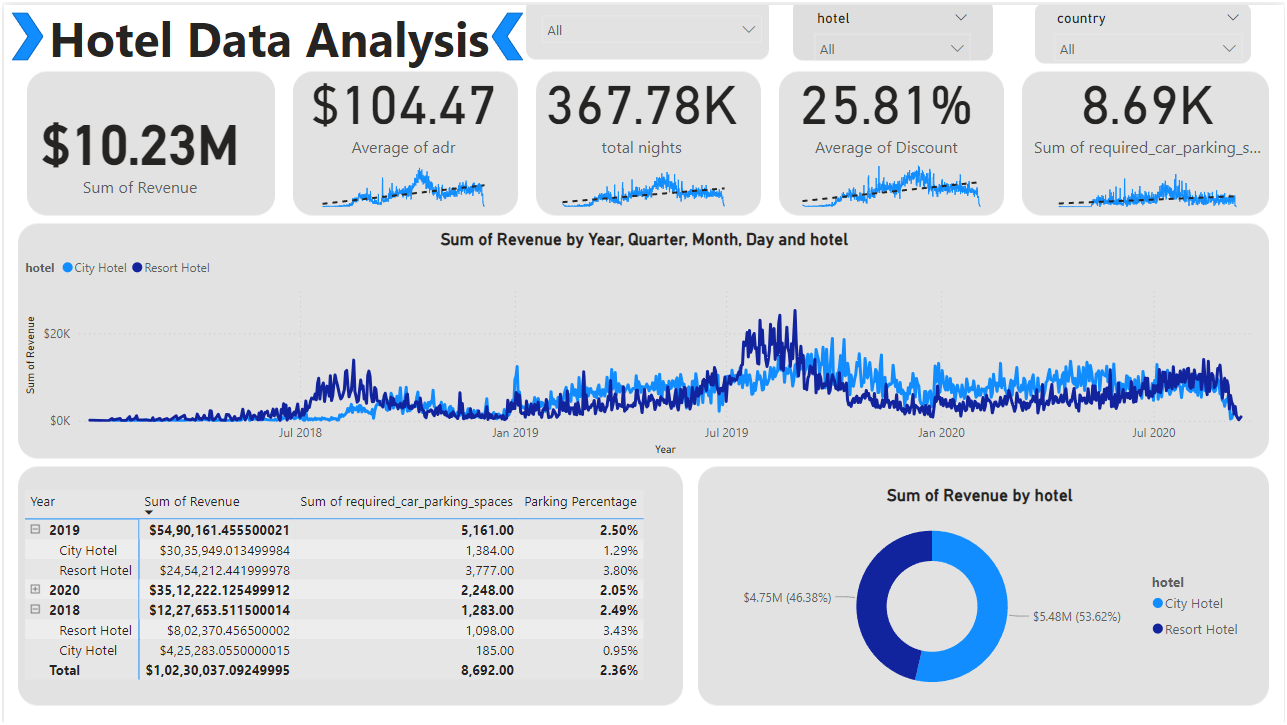

This screenshot's page, from the dashboard's own definition file:
{"tool":"powerbi","page":{"name":"Page 1","canvas":[1280,720],"ordinal":0},"visuals":[{"type":"card","fields":{"Values":["Sum(Query1.Revenue)"]},"box":[16,64,240,160],"z":0},{"type":"card","fields":{"Values":["Avg(Query1.adr)"]},"box":[288,48,224,112],"z":1000},{"type":"card","fields":{"Values":["Query1.total nights"]},"box":[533.3,48,208,112],"z":2000},{"type":"card","fields":{"Values":["Avg(Query1.Discount)"]},"box":[762.7,48,240,112],"z":3000},{"type":"lineChart","fields":{"Y":["Sum(Query1.Revenue)"],"Category":["Query1.reservation_status_date.Variation.Date Hierarchy.Year","Query1.reservation_status_date.Variation.Date Hierarchy.Quarter","Query1.reservation_status_date.Variation.Date Hierarchy.Month","Query1.reservation_status_date.Variation.Date Hierarchy.Day"],"Series":["Query1.hotel"]},"box":[16,224,1248,232],"z":4000},{"type":"slicer","fields":{"Values":["Query1.country"]},"box":[1040,0,208,64],"z":5000},{"type":"slicer","fields":{"Values":["Query1.hotel"]},"box":[800,0,176,64],"z":6000},{"type":"lineChart","fields":{"Category":["Query1.reservation_status_date.Variation.Date Hierarchy.Year","Query1.reservation_status_date.Variation.Date Hierarchy.Quarter","Query1.reservation_status_date.Variation.Date Hierarchy.Month","Query1.reservation_status_date.Variation.Date Hierarchy.Day"],"Y":["Sum(Query1.adr)"]},"box":[304,144,192,64],"z":7000},{"type":"lineChart","fields":{"Category":["Query1.reservation_status_date.Variation.Date Hierarchy.Year","Query1.reservation_status_date.Variation.Date Hierarchy.Quarter","Query1.reservation_status_date.Variation.Date Hierarchy.Month","Query1.reservation_status_date.Variation.Date Hierarchy.Day"],"Y":["Query1.total nights"]},"box":[544,144,192,64],"z":8000},{"type":"lineChart","fields":{"Category":["Query1.reservation_status_date.Variation.Date Hierarchy.Year","Query1.reservation_status_date.Variation.Date Hierarchy.Quarter","Query1.reservation_status_date.Variation.Date Hierarchy.Month","Query1.reservation_status_date.Variation.Date Hierarchy.Day"],"Y":["Sum(Query1.Discount)"]},"box":[784,144,208,64],"z":9000},{"type":"card","fields":{"Values":["Sum(Query1.required_car_parking_spaces)"]},"box":[1024,48,240,112],"z":10000},{"type":"lineChart","fields":{"Category":["Query1.reservation_status_date.Variation.Date Hierarchy.Year","Query1.reservation_status_date.Variation.Date Hierarchy.Quarter","Query1.reservation_status_date.Variation.Date Hierarchy.Month","Query1.reservation_status_date.Variation.Date Hierarchy.Day"],"Y":["Sum(Query1.required_car_parking_spaces)"]},"box":[1040,144,208,64],"z":11000},{"type":"donutChart","fields":{"Y":["Sum(Query1.Revenue)"],"Series":["Query1.hotel"]},"box":[704,480,544,224],"z":12000},{"type":"pivotTable","fields":{"Rows":["Query1.reservation_status_date.Variation.Date Hierarchy.Year","Query1.hotel"],"Values":["Sum(Query1.Revenue)","Sum(Query1.required_car_parking_spaces)","Query1.Parking Percentage"]},"box":[16,480,656,224],"z":13000},{"type":"slicer","fields":{"Values":["Query1.reservation_status_date.Variation.Date Hierarchy.Year","Query1.reservation_status_date.Variation.Date Hierarchy.Quarter","Query1.reservation_status_date.Variation.Date Hierarchy.Month","Query1.reservation_status_date.Variation.Date Hierarchy.Day"]},"box":[528,0,240,64],"z":14000},{"type":"textbox","box":[48,8,432,80],"z":15000},{"type":"shape","box":[8,8,32,48],"z":16000},{"type":"shape","box":[472,8,32,48],"z":17000}]}

Visuals, with their boxes in screenshot pixels (x1, y1, x2, y2), scaled from the page's 1280x720 canvas onto the 1287x725 screenshot:
card - Sum(Query1.Revenue): box=[16, 64, 257, 226]
card - Avg(Query1.adr): box=[290, 48, 515, 161]
card - Query1.total nights: box=[536, 48, 745, 161]
card - Avg(Query1.Discount): box=[767, 48, 1008, 161]
lineChart - Sum(Query1.Revenue) x Query1.reservation_status_date.Variation.Date Hierarchy.Year: box=[16, 226, 1271, 459]
slicer - Query1.country: box=[1046, 0, 1255, 64]
slicer - Query1.hotel: box=[804, 0, 981, 64]
lineChart - Query1.reservation_status_date.Variation.Date Hierarchy.Year x Query1.reservation_status_date.Variation.Date Hierarchy.Quarter: box=[306, 145, 499, 209]
lineChart - Query1.reservation_status_date.Variation.Date Hierarchy.Year x Query1.reservation_status_date.Variation.Date Hierarchy.Quarter: box=[547, 145, 740, 209]
lineChart - Query1.reservation_status_date.Variation.Date Hierarchy.Year x Query1.reservation_status_date.Variation.Date Hierarchy.Quarter: box=[788, 145, 997, 209]
card - Sum(Query1.required_car_parking_spaces): box=[1030, 48, 1271, 161]
lineChart - Query1.reservation_status_date.Variation.Date Hierarchy.Year x Query1.reservation_status_date.Variation.Date Hierarchy.Quarter: box=[1046, 145, 1255, 209]
donutChart - Sum(Query1.Revenue) x Query1.hotel: box=[708, 483, 1255, 709]
pivotTable - Query1.reservation_status_date.Variation.Date Hierarchy.Year x Query1.hotel: box=[16, 483, 676, 709]
slicer - Query1.reservation_status_date.Variation.Date Hierarchy.Year x Query1.reservation_status_date.Variation.Date Hierarchy.Quarter: box=[531, 0, 772, 64]
textbox: box=[48, 8, 483, 89]
shape: box=[8, 8, 40, 56]
shape: box=[475, 8, 507, 56]
